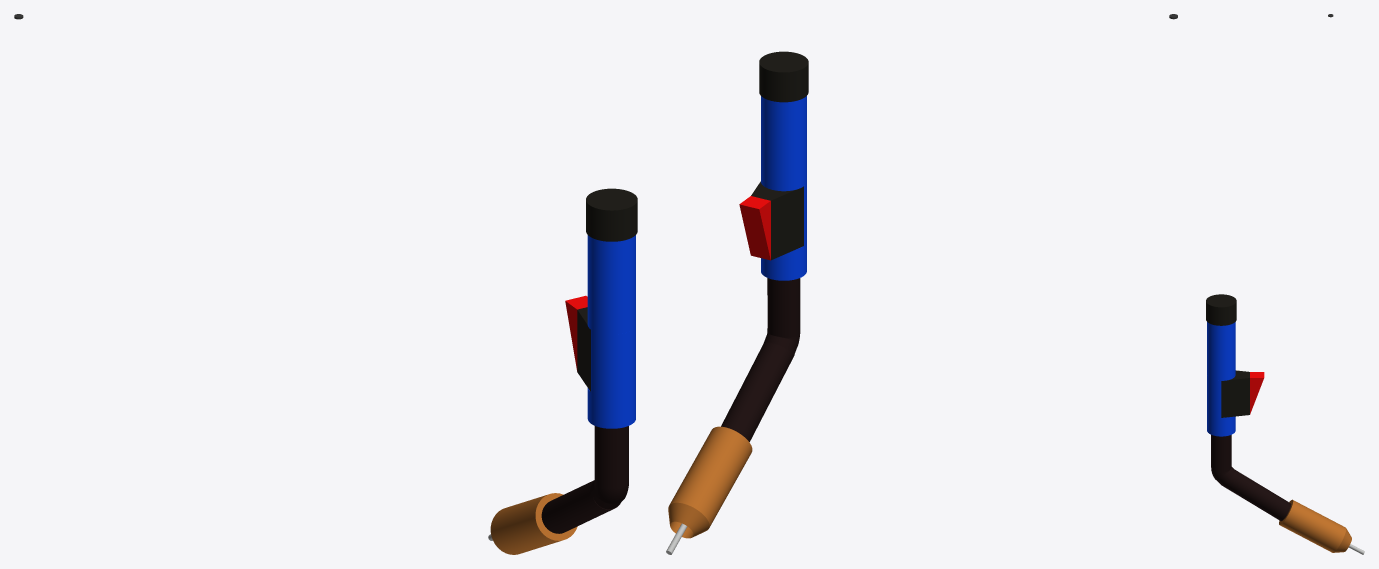
File: WELDING GUN NEW v1.fbx
3 renders of one model, left to right at view 1: azimuth 30°, elevation 25°; view 2: azimuth 150°, elevation 25°; view 3: azimuth 270°, elevation 25°, orthographic. The views are drawn at different scales.
Visible parts, largest first — view 1: Body8, Body2, Body9, Body3, Body1, Body4, Body5; view 2: Body8, Body9, Body2, Body1, Body5, Body6, Body4; view 3: Body8, Body9, Body2, Body5, Body1, Body3, Body4, Body6.
Part boxes in pixels (<box>): Body8: <box>541,426,628,533</box>; Body2: <box>587,235,635,334</box>; Body9: <box>490,493,577,554</box>; Body3: <box>591,326,635,397</box>; Body1: <box>586,188,637,241</box>; Body4: <box>587,388,635,428</box>; Body5: <box>577,310,590,391</box>; Body8: <box>721,278,800,441</box>; Body9: <box>668,426,752,538</box>; Body2: <box>761,96,806,191</box>; Body1: <box>759,51,808,102</box>; Body5: <box>751,181,803,260</box>; Body6: <box>739,196,770,260</box>; Body4: <box>761,242,806,280</box>; Body8: <box>1211,435,1291,521</box>; Body9: <box>1279,499,1351,552</box>; Body2: <box>1207,322,1235,380</box>; Body5: <box>1221,370,1249,417</box>; Body1: <box>1206,294,1236,325</box>; Body3: <box>1207,375,1221,417</box>; Body4: <box>1207,413,1235,436</box>; Body6: <box>1250,372,1264,414</box>.
Bounding box in the file's own units: 855 × 1034 × 377.
